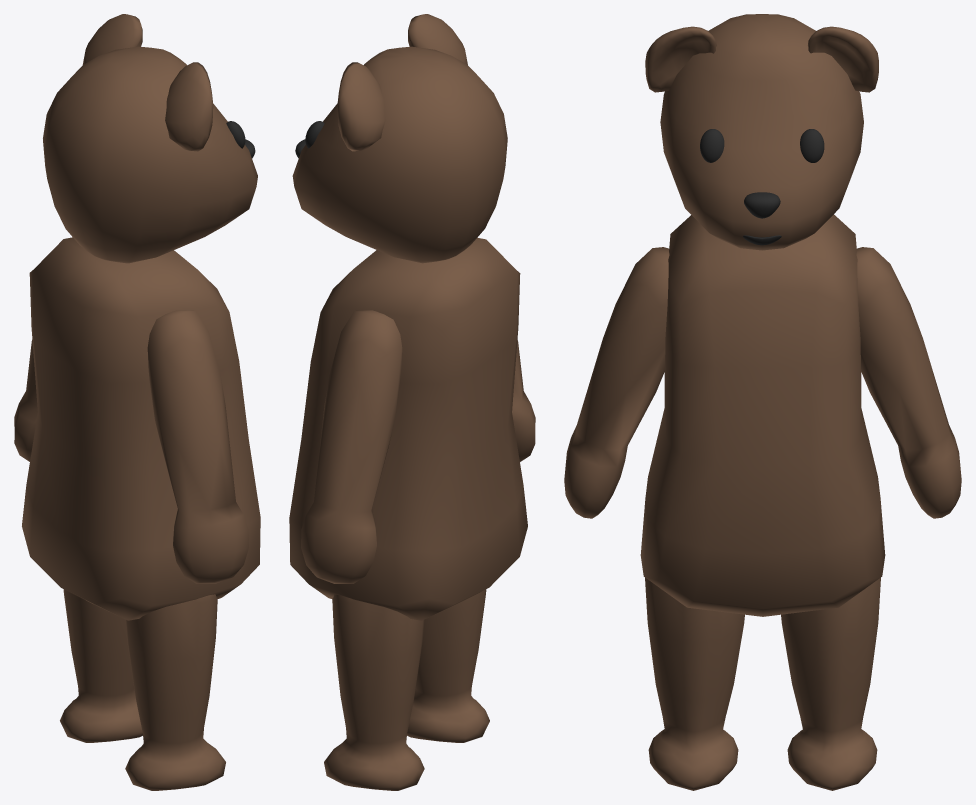
The model's file is bearBaseModel.glb.
The picture shows the model from 3 angles, left to right: view 1: azimuth 30°, elevation 25°; view 2: azimuth 150°, elevation 25°; view 3: azimuth 270°, elevation 25°; orthographic projection. The views are drawn at different scales.
Visible parts, largest first — view 1: Cube, Head, LEgs, Arms, ears; view 2: Cube, Head, LEgs, Arms, ears; view 3: Cube, Head, LEgs, Arms, ears, Eyes, nose.
Boxes of the visible parts, left/top/right/bottom form: Cube: left=22, top=237, right=260, bottom=620; Head: left=43, top=46, right=257, bottom=263; LEgs: left=60, top=589, right=225, bottom=790; Arms: left=14, top=310, right=248, bottom=583; ears: left=82, top=14, right=213, bottom=151; Cube: left=289, top=237, right=527, bottom=620; Head: left=292, top=46, right=507, bottom=263; LEgs: left=324, top=589, right=489, bottom=790; Arms: left=301, top=310, right=535, bottom=583; ears: left=337, top=14, right=467, bottom=151; Cube: left=640, top=214, right=885, bottom=616; Head: left=660, top=14, right=863, bottom=250; LEgs: left=645, top=577, right=880, bottom=790; Arms: left=564, top=247, right=961, bottom=518; ears: left=645, top=26, right=878, bottom=92; Eyes: left=700, top=129, right=824, bottom=162; nose: left=744, top=192, right=780, bottom=218.
Size of the model in its own units: 1.3 by 4.47 by 2.13.
